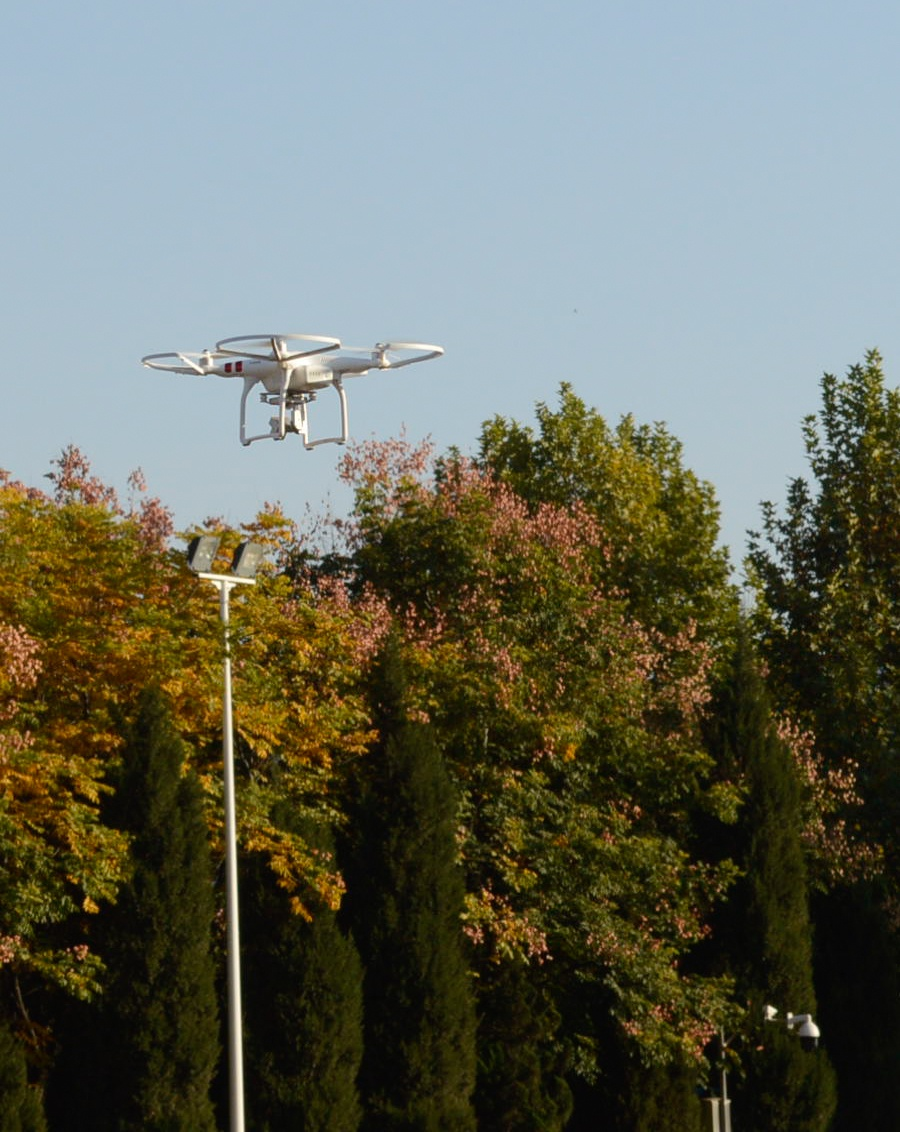DJI: (136, 325, 449, 458)
